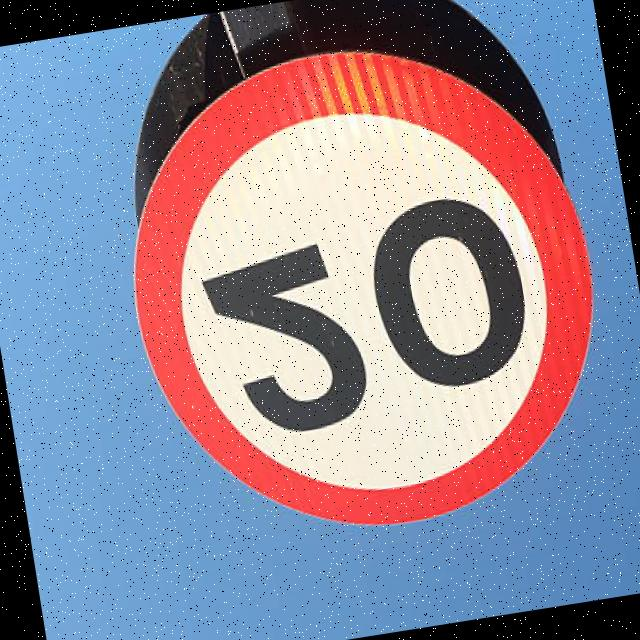speed_limit_20: (79, 10, 640, 590)
